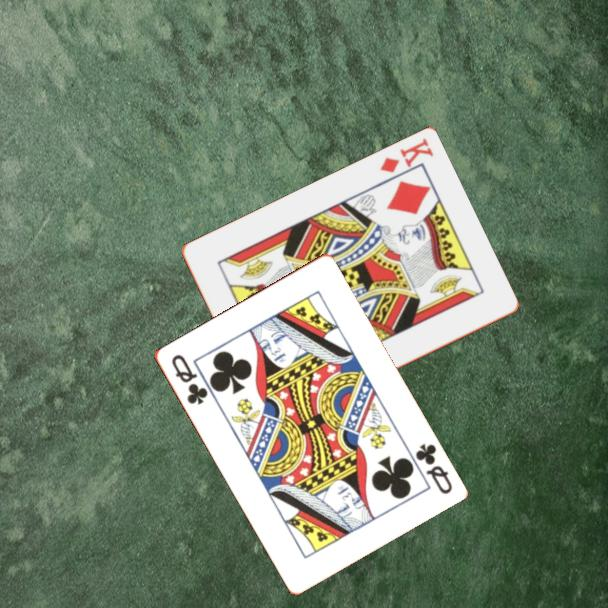c12: (411, 440, 455, 497), (167, 351, 210, 408)
d13: (376, 135, 436, 176)
